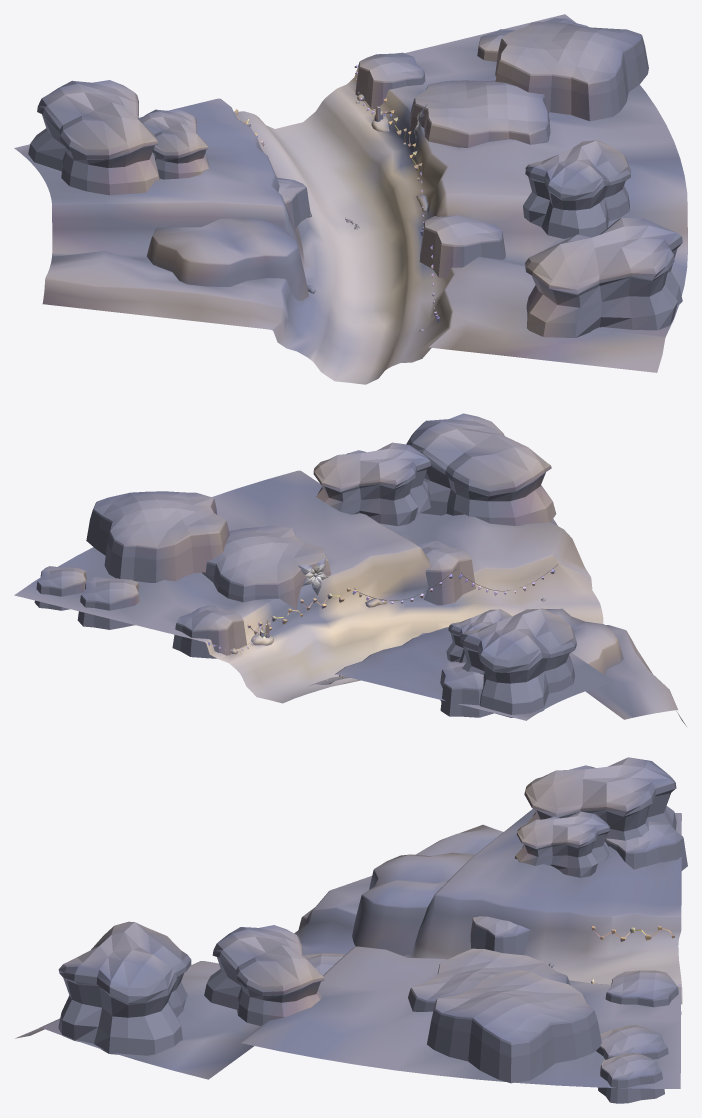
File: Arctic_Luge_Curve_Right_45_A.glb
3 views of the same model, one above another, from view 1: azimuth 30°, elevation 25°; view 2: azimuth 150°, elevation 25°; view 3: azimuth 270°, elevation 25° (orthographic). The views are drawn at different scales.
Parts seen in each view (by area): view 1: Arctic_Luge_Curve_Right_45_A, Arctic_Luge_LargeRock_prop (3), Arctic_Luge_MediumIceRock_prop (1), Arctic_Luge_LargeRock_prop, Arctic_Luge_LargeRock_prop (2), Arctic_Luge_MediumIceRock_prop, Arctic_Luge_SmallIceRock_prop (5), Arctic_Luge_LargeRock_prop (1), Arctic_Luge_SmallIceRock_prop, Arctic_Luge_SmallIceRock_prop (4), Arctic_Luge_SmallIceRock_prop (1); view 2: Arctic_Luge_Curve_Right_45_A, Arctic_Luge_LargeRock_prop (3), Arctic_Luge_MediumIceRock_prop (1), Arctic_Luge_LargeRock_prop, Arctic_Luge_LargeRock_prop (2), Arctic_Luge_MediumIceRock_prop, Arctic_Luge_SmallIceRock_prop, Arctic_Luge_SmallIceRock_prop (5), Arctic_Luge_SmallIceRock_prop (1), Arctic_Luge_SmallIceRock_prop (3), Arctic_Luge_SmallIceRock_prop (2), Arctic_Luge_LargeRock_prop (1) (+1 smaller); view 3: Arctic_Luge_Curve_Right_45_A, Arctic_Luge_MediumIceRock_prop (1), Arctic_Luge_LargeRock_prop (3), Arctic_Luge_LargeRock_prop (2), Arctic_Luge_LargeRock_prop, Arctic_Luge_LargeRock_prop (1), Arctic_Luge_MediumIceRock_prop, Arctic_Luge_SmallIceRock_prop (2), Arctic_Luge_SmallIceRock_prop (3), Arctic_Luge_SmallIceRock_prop, Arctic_Luge_SmallIceRock_prop (4), Arctic_Luge_SmallIceRock_prop (1).
Boxes of the visible parts, box(x1,y1,x2,y2) form: Arctic_Luge_Curve_Right_45_A: box(14, 14, 687, 384); Arctic_Luge_LargeRock_prop (3): box(525, 218, 682, 337); Arctic_Luge_MediumIceRock_prop (1): box(495, 21, 648, 121); Arctic_Luge_LargeRock_prop: box(28, 80, 159, 195); Arctic_Luge_LargeRock_prop (2): box(523, 140, 630, 238); Arctic_Luge_MediumIceRock_prop: box(408, 80, 550, 147); Arctic_Luge_SmallIceRock_prop (5): box(419, 215, 505, 278); Arctic_Luge_LargeRock_prop (1): box(138, 109, 208, 179); Arctic_Luge_SmallIceRock_prop: box(355, 52, 425, 109); Arctic_Luge_SmallIceRock_prop (4): box(277, 177, 310, 227); Arctic_Luge_SmallIceRock_prop (1): box(477, 29, 515, 61); Arctic_Luge_Curve_Right_45_A: box(14, 470, 686, 726); Arctic_Luge_LargeRock_prop (3): box(406, 413, 556, 525); Arctic_Luge_MediumIceRock_prop (1): box(86, 491, 229, 582); Arctic_Luge_LargeRock_prop: box(459, 608, 576, 717); Arctic_Luge_LargeRock_prop (2): box(313, 442, 430, 526); Arctic_Luge_MediumIceRock_prop: box(202, 525, 330, 610); Arctic_Luge_SmallIceRock_prop: box(172, 605, 246, 658); Arctic_Luge_SmallIceRock_prop (5): box(417, 540, 475, 605); Arctic_Luge_SmallIceRock_prop (1): box(77, 576, 139, 629); Arctic_Luge_SmallIceRock_prop (3): box(440, 662, 493, 717); Arctic_Luge_SmallIceRock_prop (2): box(34, 566, 86, 610); Arctic_Luge_LargeRock_prop (1): box(446, 609, 511, 662); Arctic_Luge_Curve_Right_45_A: box(15, 808, 682, 1088); Arctic_Luge_MediumIceRock_prop (1): box(427, 970, 601, 1083); Arctic_Luge_LargeRock_prop (3): box(58, 921, 191, 1055); Arctic_Luge_LargeRock_prop (2): box(204, 925, 324, 1025); Arctic_Luge_LargeRock_prop: box(524, 757, 676, 841); Arctic_Luge_LargeRock_prop (1): box(514, 811, 610, 877); Arctic_Luge_MediumIceRock_prop: box(408, 948, 569, 1011); Arctic_Luge_SmallIceRock_prop (2): box(598, 1053, 664, 1103); Arctic_Luge_SmallIceRock_prop (3): box(605, 821, 687, 870); Arctic_Luge_SmallIceRock_prop: box(605, 970, 681, 1014); Arctic_Luge_SmallIceRock_prop (4): box(470, 916, 529, 955); Arctic_Luge_SmallIceRock_prop (1): box(596, 1025, 668, 1059).
Size of the model in its own units: 29.44 by 7.97 by 26.81.
